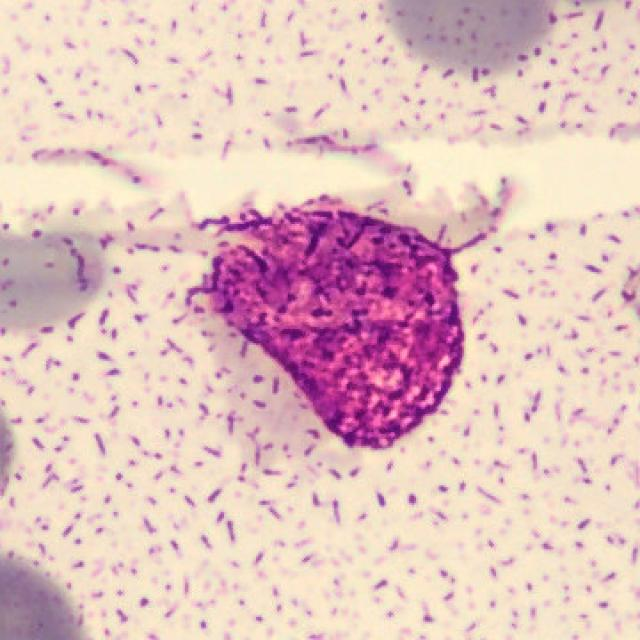Restos celulares: (190, 197, 464, 452)
